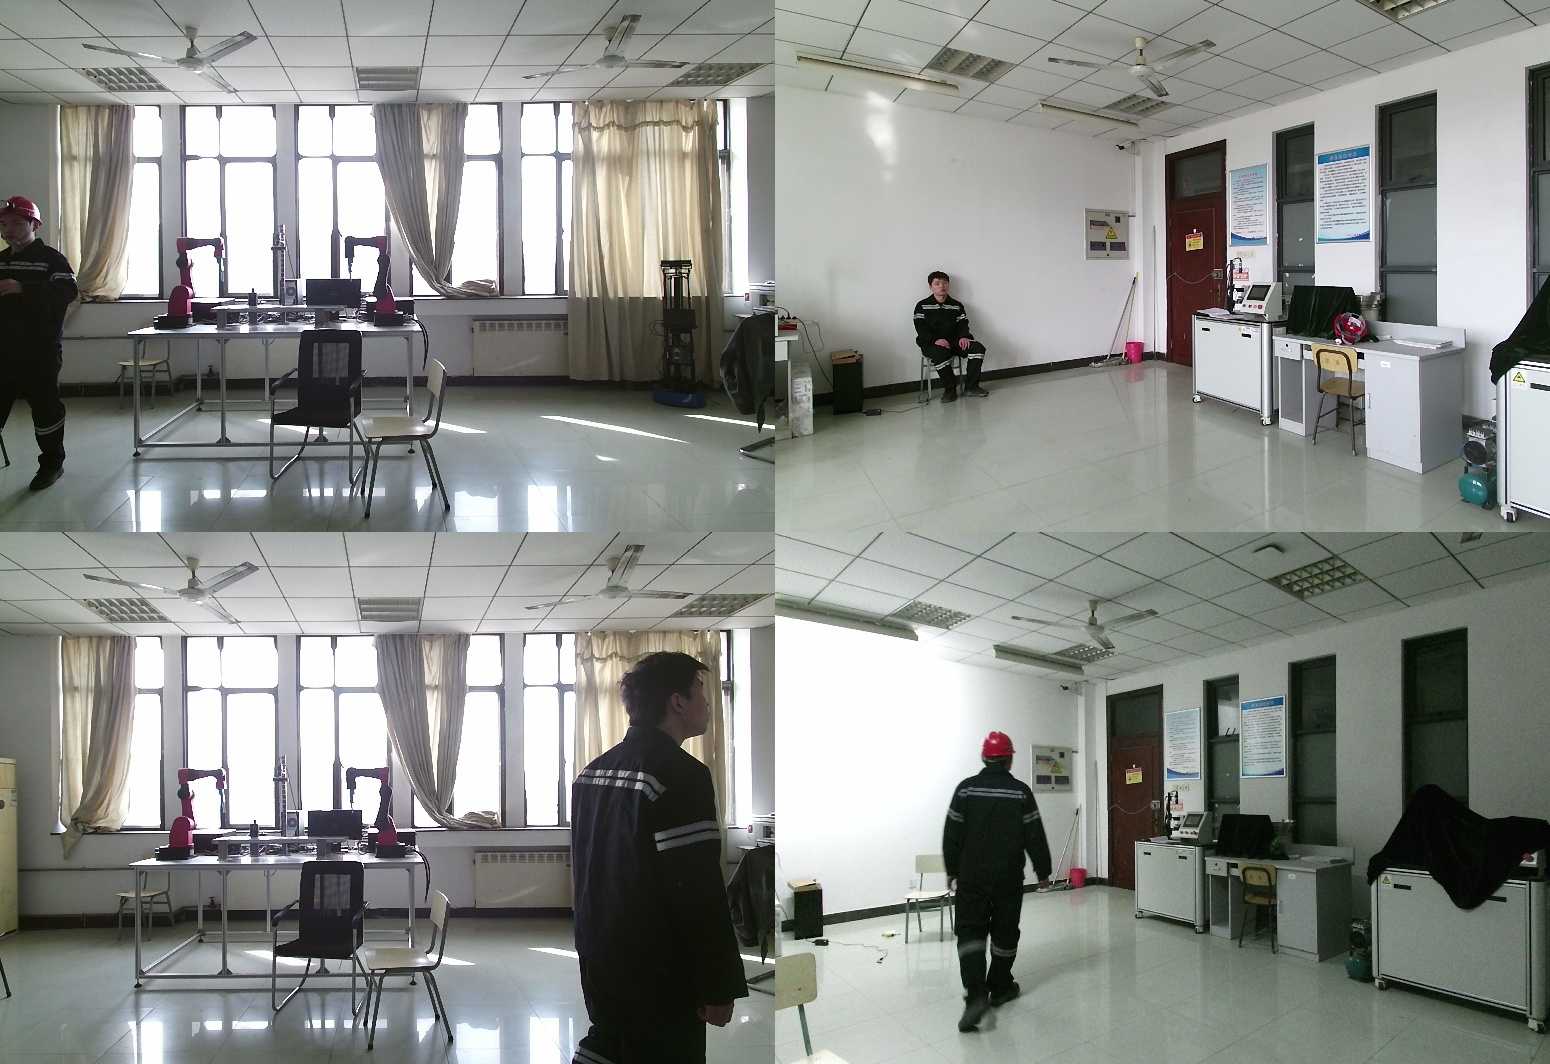person: (573, 654, 763, 1064), (932, 734, 1046, 1035), (1, 197, 88, 490), (910, 270, 987, 405)
